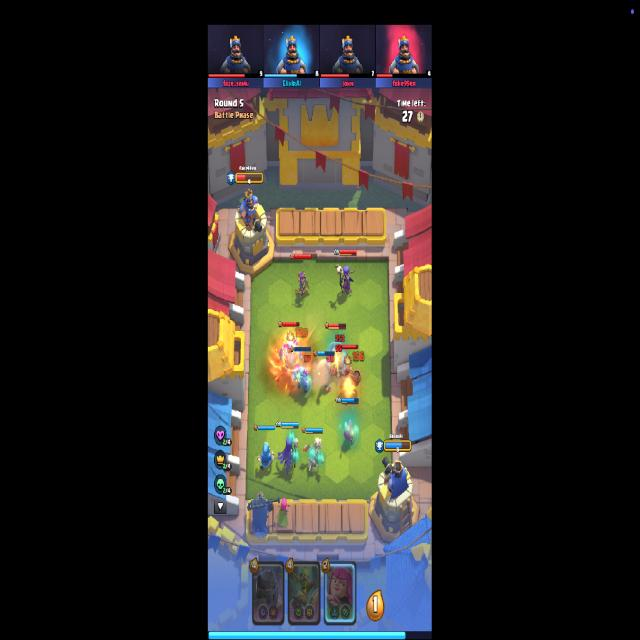archer: (277, 498, 290, 530)
archer_queen: (294, 272, 310, 299)
card_archer: (324, 560, 357, 625)
card_goblin_machine: (287, 560, 321, 625)
card_mega_knight: (252, 560, 284, 624)
giant_skeleton: (342, 364, 361, 398)
knight: (316, 358, 335, 398)
musketeer: (342, 418, 359, 447)
pekka: (278, 338, 302, 374), (294, 366, 314, 396)
skeleton_dragon: (303, 436, 324, 482)
skeleton_king: (247, 491, 280, 536)
witch: (277, 436, 298, 476), (335, 263, 355, 297)
wizard: (256, 440, 275, 472)
